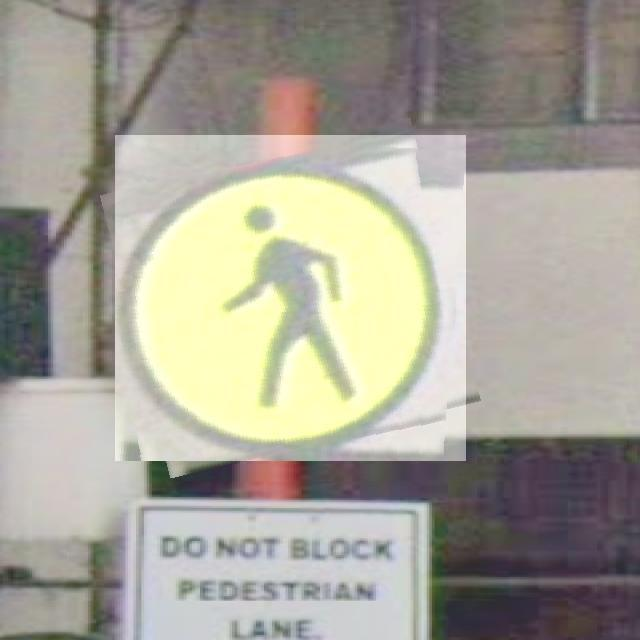pedestrian crossing: (115, 135, 466, 461)
